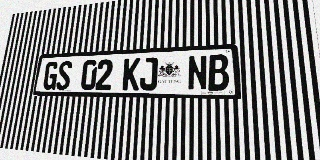0: (80, 60, 98, 90)
2: (95, 59, 113, 90)
B: (208, 54, 229, 91)
G: (42, 61, 59, 90)
J: (139, 57, 158, 90)
K: (122, 58, 140, 90)
N: (187, 55, 207, 91)
S: (55, 61, 73, 90)
